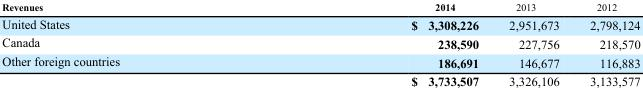table: (1, 1, 639, 88)
table column: (1, 1, 264, 88), (264, 1, 493, 88), (493, 1, 574, 88), (574, 1, 639, 88)
table column header: (1, 1, 639, 14)
table row: (1, 14, 639, 33), (1, 33, 639, 52), (1, 52, 639, 71), (1, 71, 639, 88), (1, 1, 639, 14)
